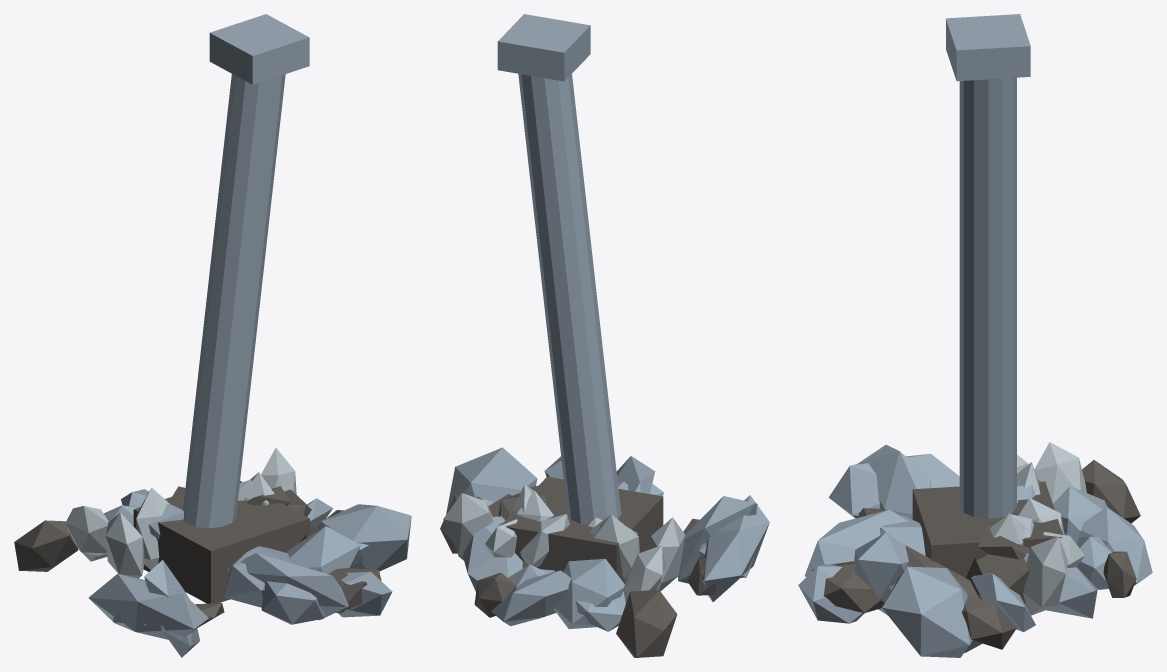
Rendered from embedded_spire.glb.
3 views of the same model, side by side, from view 1: azimuth 30°, elevation 25°; view 2: azimuth 150°, elevation 25°; view 3: azimuth 270°, elevation 25° (orthographic). The views are drawn at different scales.
Visible parts, largest first — view 1: thin standing column, buried square footing, broken column top, embedded base_stone_11, embedded base_stone_14, embedded base_stone_02, embedded base_stone_21, embedded base_stone_23, embedded base_stone_10, stone fragments at base 9, embedded base_stone_20, stone fragments at base 4 (+5 smaller); view 2: thin standing column, buried square footing, broken column top, embedded base_stone_11, embedded base_stone_21, embedded base_stone_14, embedded base_stone_16, embedded base_stone_28, embedded base_stone_22, embedded base_stone_13, stone fragments at base 5, stone fragments at base 9 (+9 smaller); view 3: thin standing column, embedded base_stone_14, buried square footing, broken column top, embedded base_stone_11, embedded base_stone_22, embedded base_stone_02, stone fragments at base 5, embedded base_stone_23, embedded base_stone_28, embedded base_stone_00, stone fragments at base 4 (+15 smaller).
Part boxes in pixels (<box>): thin standing column: <box>183,74,285,528</box>; buried square footing: <box>133,481,309,603</box>; broken column top: <box>209,14,309,84</box>; embedded base_stone_11: <box>88,573,208,639</box>; embedded base_stone_14: <box>320,504,411,571</box>; embedded base_stone_02: <box>227,553,348,620</box>; embedded base_stone_21: <box>14,520,78,571</box>; embedded base_stone_23: <box>287,526,360,573</box>; embedded base_stone_10: <box>261,581,324,624</box>; stone fragments at base 9: <box>105,512,144,578</box>; embedded base_stone_20: <box>224,546,289,607</box>; stone fragments at base 4: <box>65,506,108,555</box>; thin standing column: <box>518,73,621,524</box>; buried square footing: <box>501,476,663,583</box>; broken column top: <box>497,14,590,81</box>; embedded base_stone_11: <box>700,495,769,601</box>; embedded base_stone_21: <box>616,590,677,657</box>; embedded base_stone_14: <box>446,447,537,513</box>; embedded base_stone_16: <box>554,558,624,628</box>; embedded base_stone_28: <box>491,570,571,626</box>; embedded base_stone_22: <box>677,496,757,583</box>; embedded base_stone_13: <box>462,516,522,592</box>; stone fragments at base 5: <box>443,493,493,556</box>; stone fragments at base 9: <box>648,517,685,591</box>; thin standing column: <box>959,77,1016,518</box>; embedded base_stone_14: <box>882,566,972,657</box>; buried square footing: <box>912,481,1062,577</box>; broken column top: <box>946,14,1030,81</box>; embedded base_stone_11: <box>828,453,959,518</box>; embedded base_stone_22: <box>858,444,930,519</box>; embedded base_stone_02: <box>804,509,908,576</box>; stone fragments at base 5: <box>1023,536,1068,615</box>; embedded base_stone_23: <box>854,532,908,615</box>; embedded base_stone_28: <box>1079,507,1152,585</box>; embedded base_stone_00: <box>962,594,1016,649</box>; stone fragments at base 4: <box>1034,442,1086,503</box>.
Size of the model in its own units: 2.11 by 3.69 by 1.99.
